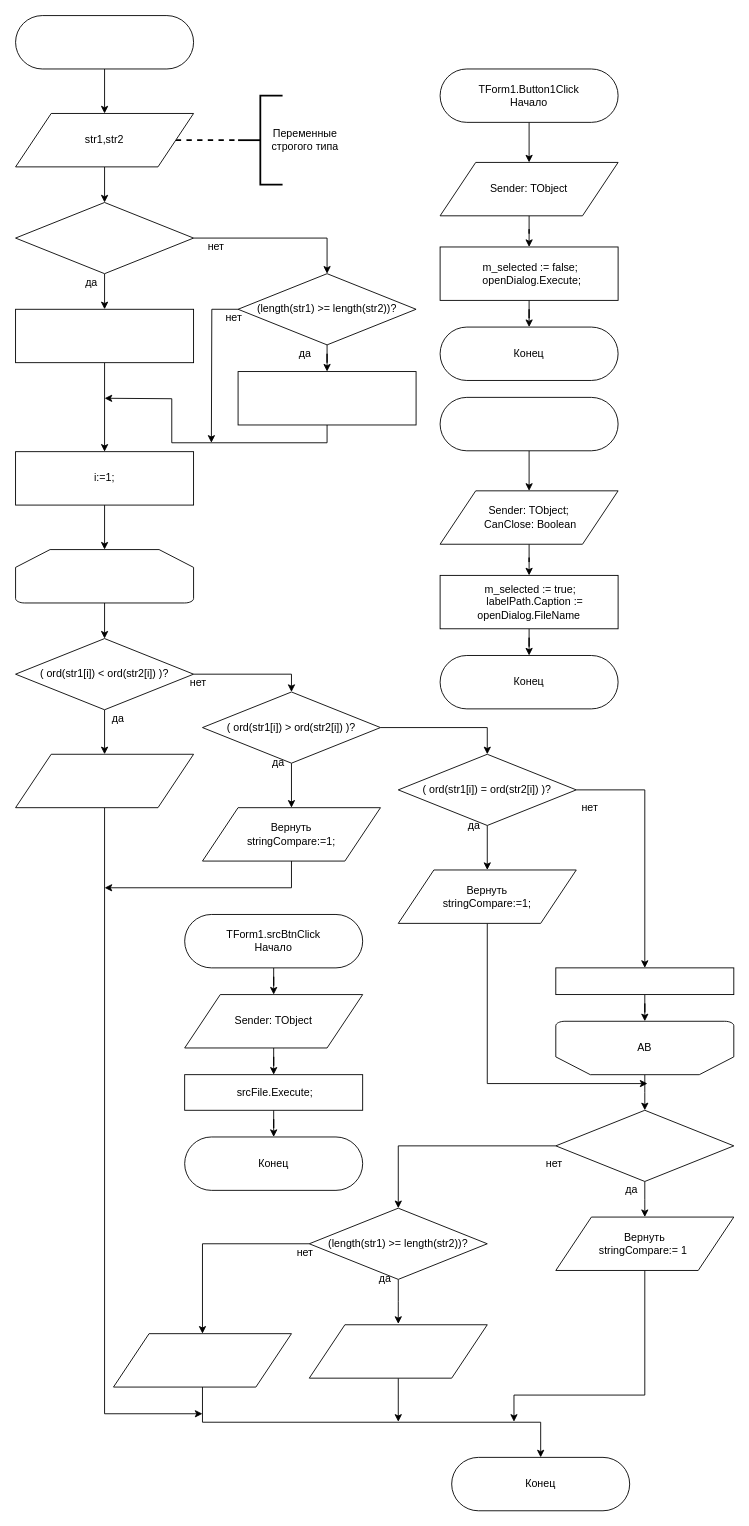
The diagram is 749 pixels wide and 1526 high, and some of its shapes have lost their labels. The centre of each missing label's shape, as x and y in pixels:
(length(str1) > length(str2))?: (644,1145)
(length(str1)<length(str2))?: (104,238)
AB i>len: (104,576)
i:=i+1: (644,981)
len:=length(str1): (104,335)
len:=length(str2);: (326,398)
stringCompare Начало: (104,42)
TForm1.OpenDialogCanClose Начало: (528,423)
вернуть stringCompare:= -1: (397,1351)
вернуть stringCompare:= 0 ;: (202,1360)
Вернуть stringCompare:=-1;: (104,780)
